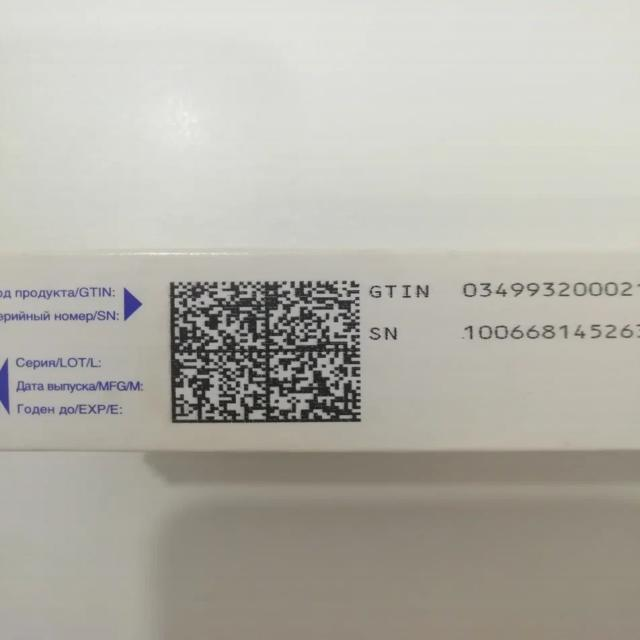datamatrix: (168, 278, 367, 428)
